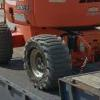Tractor: (11, 3, 100, 89)
